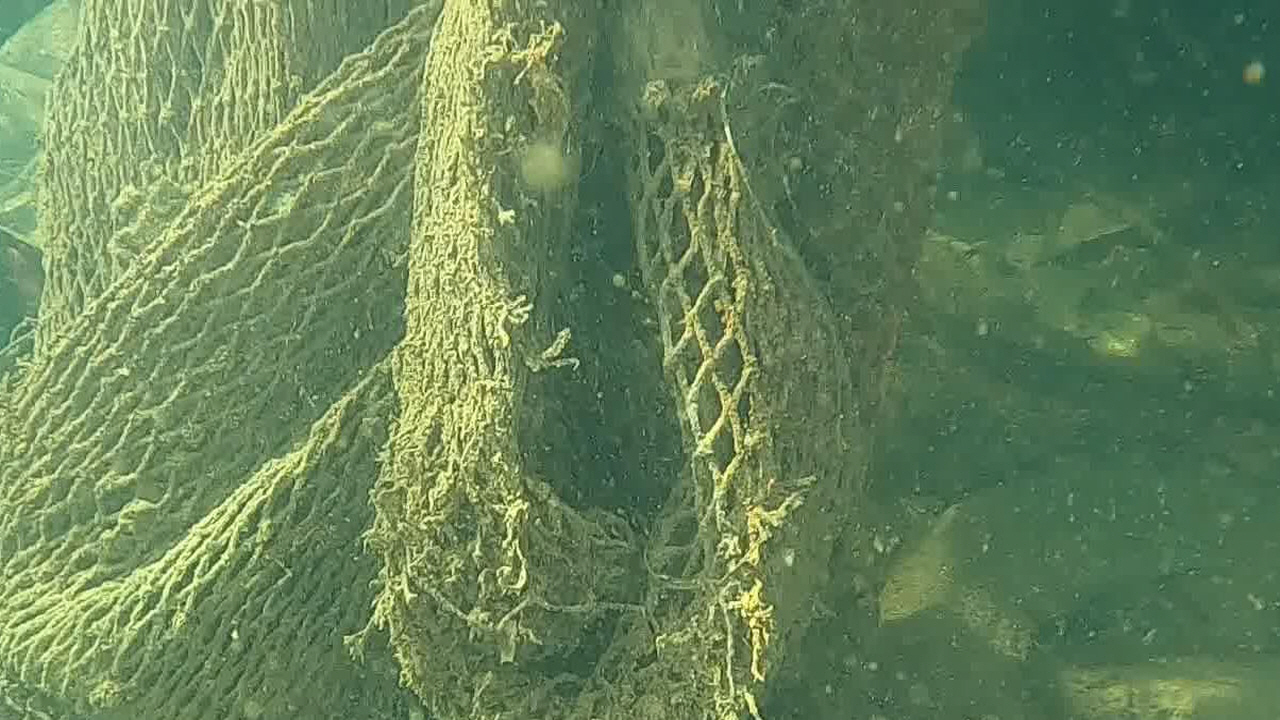fish net: (0, 0, 995, 720)
